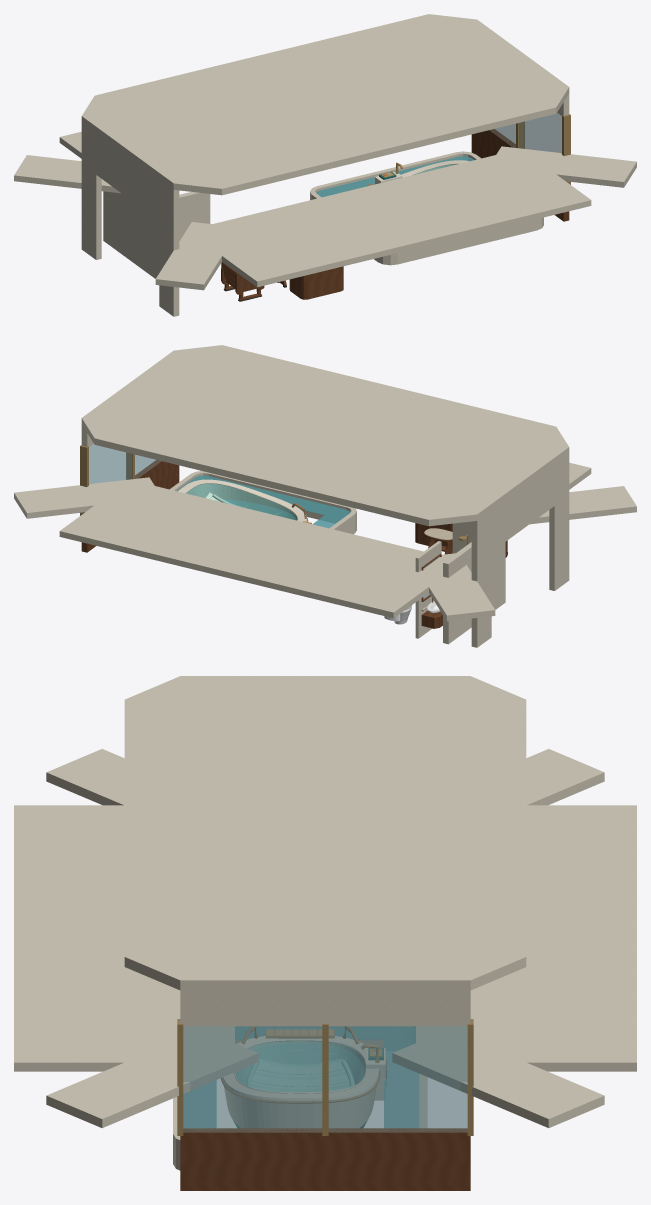
File: D04_PORT_FORWARD_HOME_916_r001.glb
The picture shows the model from 3 angles, top to bottom: view 1: azimuth 30°, elevation 25°; view 2: azimuth 150°, elevation 25°; view 3: azimuth 270°, elevation 25°; orthographic projection. The views are drawn at different scales.
Visible parts, largest first — view 1: D04H916_Roof, D04H916_Shell_4, D04H916_AquaticBasinRim, D04H916_BathDogleg, D04H916_Shell_5, D04H916_EntryHeader, D04H916_Shell_3, D04H916_EntryWall_0, D04H916_EntryWall_1, D04H916_Shell_7, D04H916_GardenGlass, D04H916_BelongingsCabinet (+3 smaller); view 2: D04H916_Roof, D04H916_Shell_0, D04H916_EntryHeader, D04H916_Shell_7, D04H916_Shell_1, D04H916_EntryWall_1, D04H916_AquaticBasinRim, D04H916_ReservedAquaticRest__Hollow continuous basin shell w, D04H916_EntryWall_0, D04H916_BathDogleg, D04H916_Shell_5, D04H916_GardenGlass (+6 smaller); view 3: D04H916_Roof, D04H916_Shell_0, D04H916_Shell_4, D04H916_GardenGlass, D04H916_GardenDado, D04H916_GardenHead, D04H916_ReservedAquaticRest__Hollow continuous basin shell w, D04H916_Shell_3, D04H916_Shell_1, D04H916_Water_0, D04H916_Shell_5, D04H916_Shell_7 (+5 smaller).
Boxes of the visible parts, box(x1,y1,x2,y2) form: D04H916_Roof: box(81, 14, 569, 195); D04H916_Shell_4: box(187, 149, 591, 287); D04H916_AquaticBasinRim: box(310, 151, 543, 265); D04H916_BathDogleg: box(103, 191, 159, 278); D04H916_Shell_5: box(155, 222, 236, 290); D04H916_EntryHeader: box(96, 133, 159, 220); D04H916_Shell_3: box(496, 146, 636, 187); D04H916_EntryWall_0: box(81, 123, 101, 259); D04H916_EntryWall_1: box(159, 179, 179, 316); D04H916_Shell_7: box(14, 155, 120, 193); D04H916_GardenGlass: box(490, 113, 561, 153); D04H916_BelongingsCabinet: box(289, 266, 343, 299); D04H916_Roof: box(81, 345, 569, 526); D04H916_Shell_0: box(59, 480, 449, 618); D04H916_EntryHeader: box(491, 464, 554, 551); D04H916_Shell_7: box(412, 553, 495, 621); D04H916_Shell_1: box(14, 477, 154, 518); D04H916_EntryWall_1: box(549, 454, 569, 590); D04H916_AquaticBasinRim: box(170, 471, 356, 534); D04H916_ReservedAquaticRest__Hollow continuous basin shell w: box(178, 479, 307, 521); D04H916_EntryWall_0: box(471, 510, 491, 647); D04H916_BathDogleg: box(443, 542, 505, 644); D04H916_Shell_5: box(530, 486, 636, 524); D04H916_GardenGlass: box(89, 444, 161, 484); D04H916_Roof: box(124, 676, 526, 990); D04H916_Shell_0: box(416, 805, 636, 1071); D04H916_Shell_4: box(14, 805, 234, 1071); D04H916_GardenGlass: box(183, 1026, 467, 1132); D04H916_GardenDado: box(180, 1128, 470, 1190); D04H916_GardenHead: box(180, 990, 470, 1026); D04H916_ReservedAquaticRest__Hollow continuous basin shell w: box(222, 1036, 378, 1127); D04H916_Shell_3: box(46, 1036, 258, 1128); D04H916_Shell_1: box(392, 1043, 604, 1128); D04H916_Water_0: box(183, 1026, 418, 1127); D04H916_Shell_5: box(46, 749, 124, 805); D04H916_Shell_7: box(526, 749, 604, 805).
Bounding box in the file's own units: 15.7 × 4.16 × 11.16.
39 materials, 20 textured.
